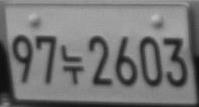0: (139, 35, 163, 86)
2: (87, 34, 113, 85)
3: (163, 36, 188, 88)
6: (114, 35, 138, 86)
7: (35, 34, 57, 84)
9: (10, 33, 33, 83)
누: (60, 44, 85, 85)
